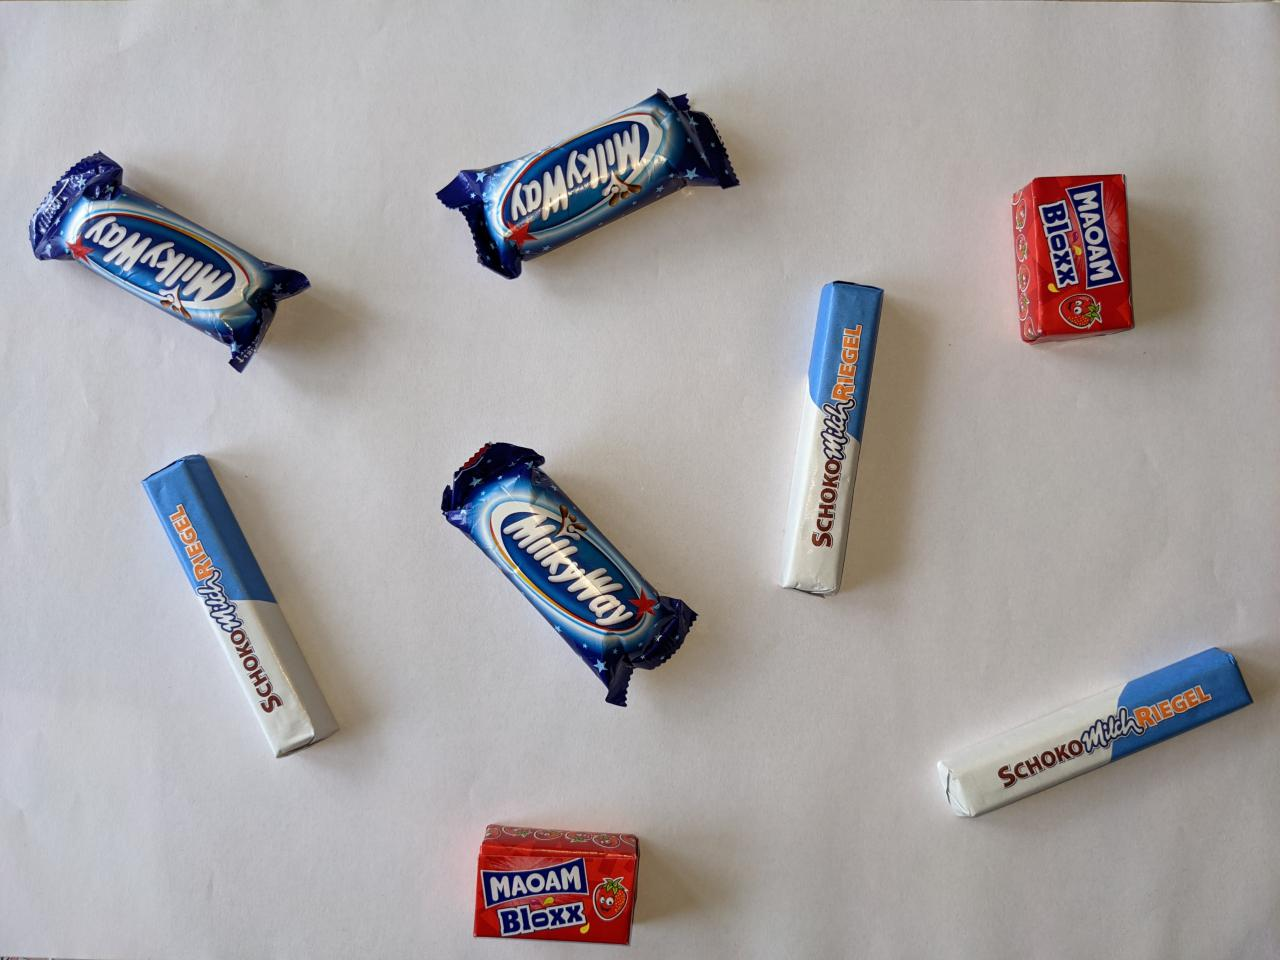MAOAM: (462, 814, 650, 953), (1004, 165, 1142, 353)
MilkyWay: (431, 431, 705, 716), (19, 147, 318, 378), (429, 81, 753, 285)
Schokoriegel: (135, 447, 344, 766), (928, 640, 1262, 831), (770, 275, 895, 607)
